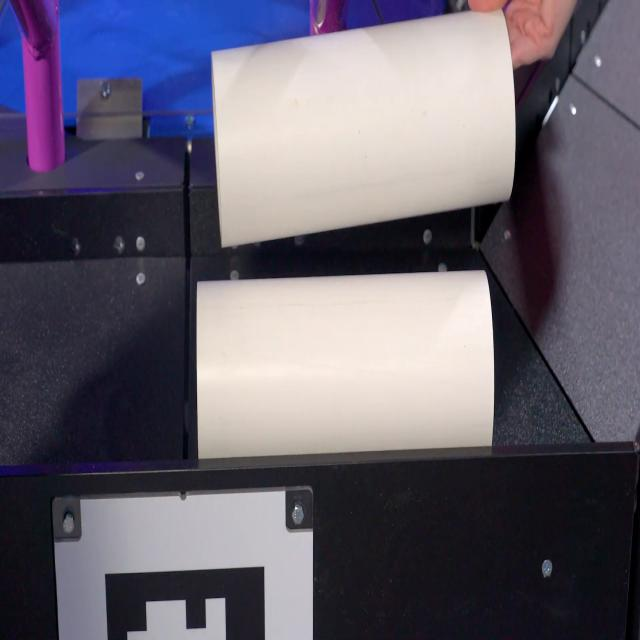Coral: (210, 7, 517, 250), (195, 268, 495, 460)
